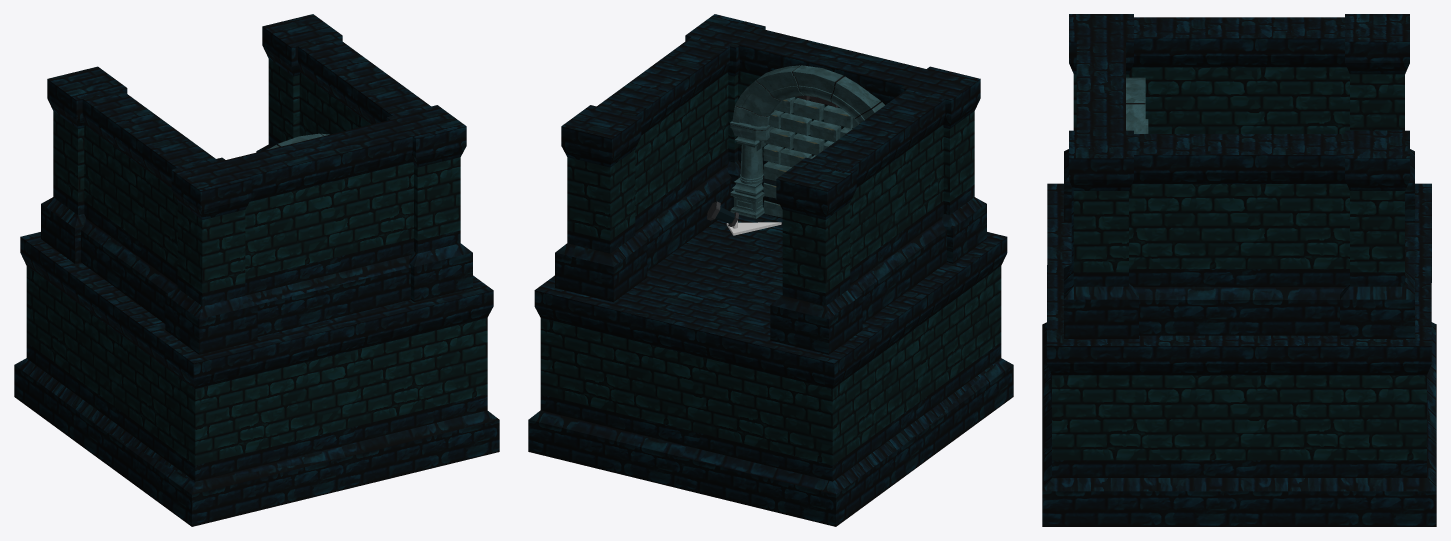
File: tile-clue-two.glb
The picture shows the model from 3 angles, left to right: view 1: azimuth 30°, elevation 25°; view 2: azimuth 150°, elevation 25°; view 3: azimuth 270°, elevation 25°; orthographic projection. The views are drawn at different scales.
Parts seen in each view (by area): view 1: mergedBlocks(Clone); view 2: mergedBlocks(Clone); view 3: mergedBlocks(Clone).
Part boxes in pixels (x1,y1,x2,y2): mergedBlocks(Clone): (14,14,499,526); mergedBlocks(Clone): (528,14,1013,526); mergedBlocks(Clone): (1042,14,1436,526).
Size of the model in its own units: 2 by 2 by 2.
Materials: 12 (6 with a texture image).
